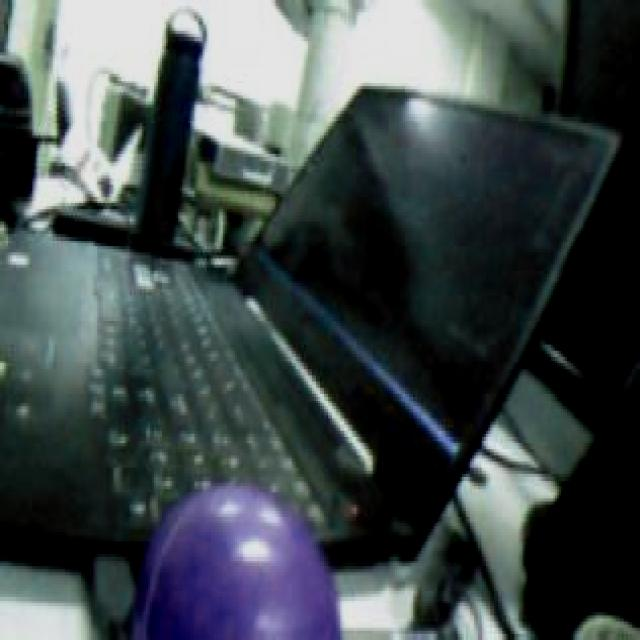BallPurple: (130, 483, 342, 640)
